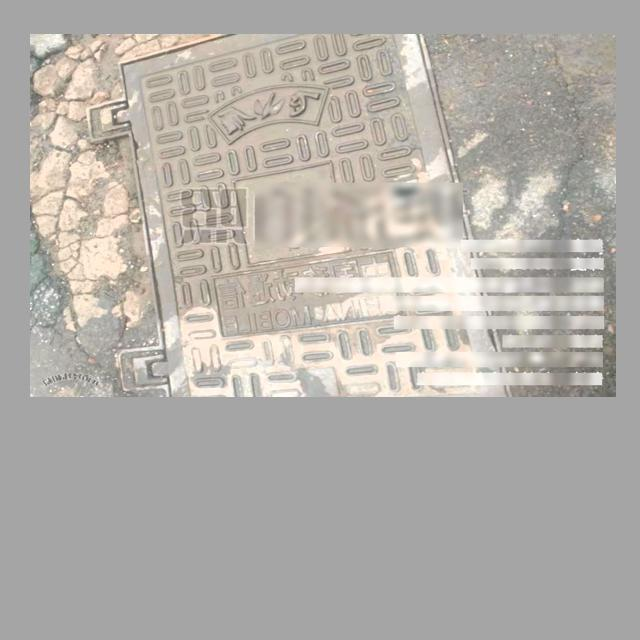good: (86, 35, 516, 397)
